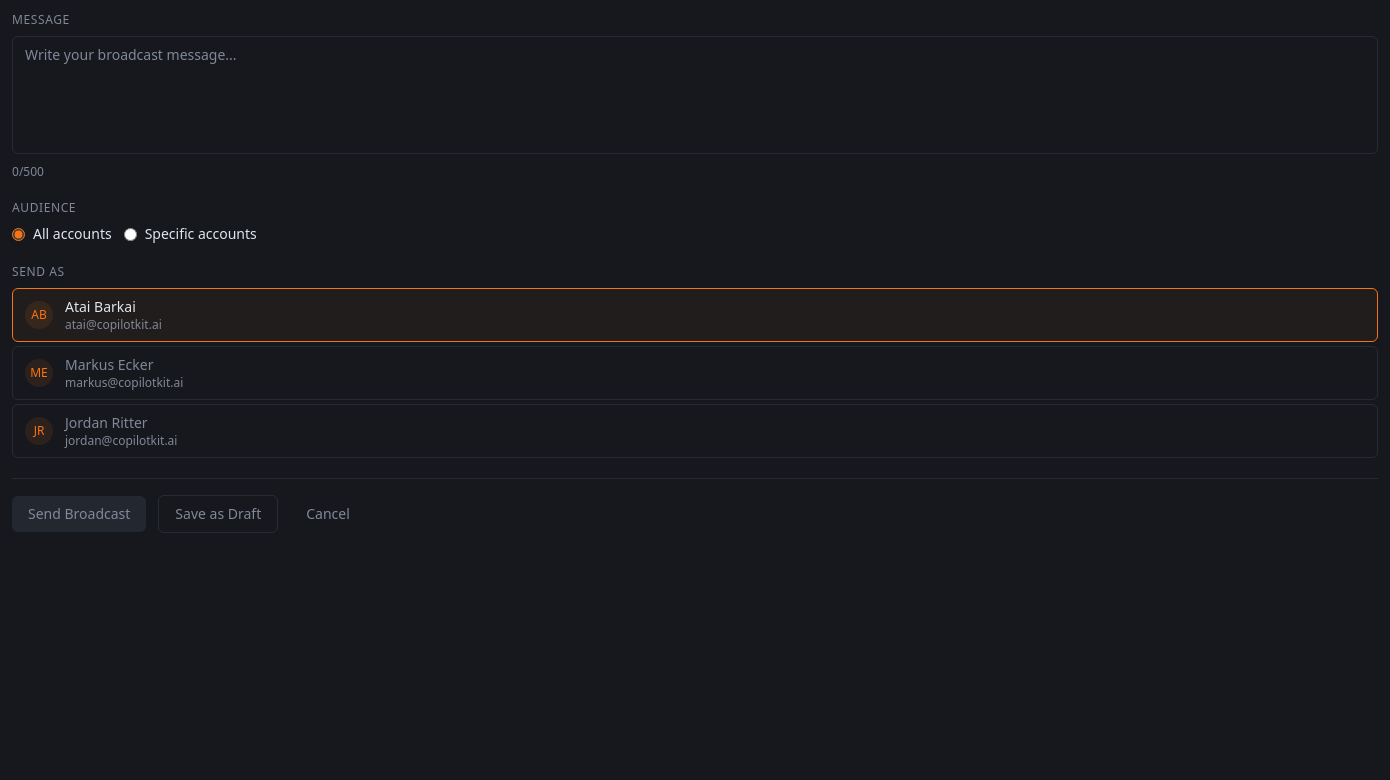
Test: BroadcastComposer › enables send button with valid message
Type "A valid broadcast message" into the text box with test id "broadcast-message". click: coordinates (695, 95)
box: left=12, top=36, right=1378, bottom=154
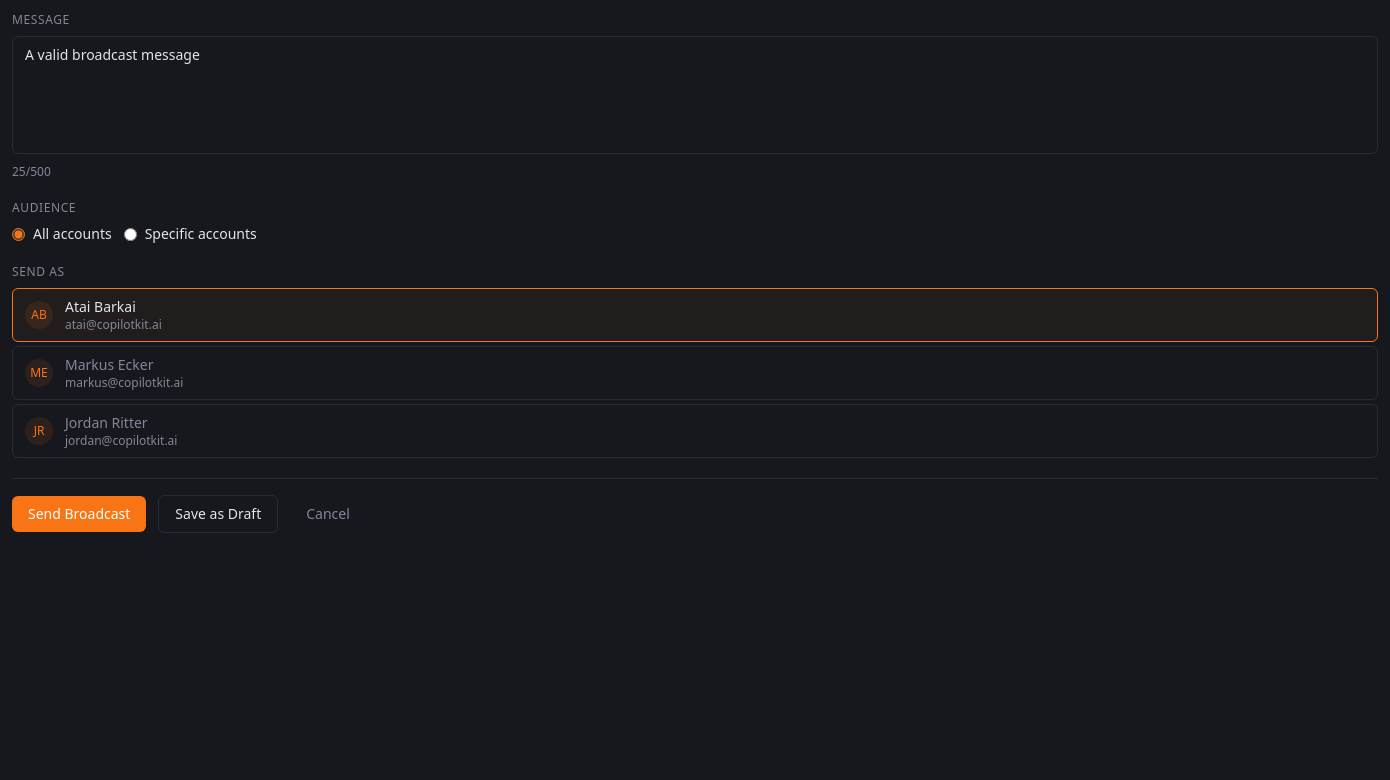
Expected: the button with test id "send-button" is enabled, left=12, top=496, right=146, bottom=532
